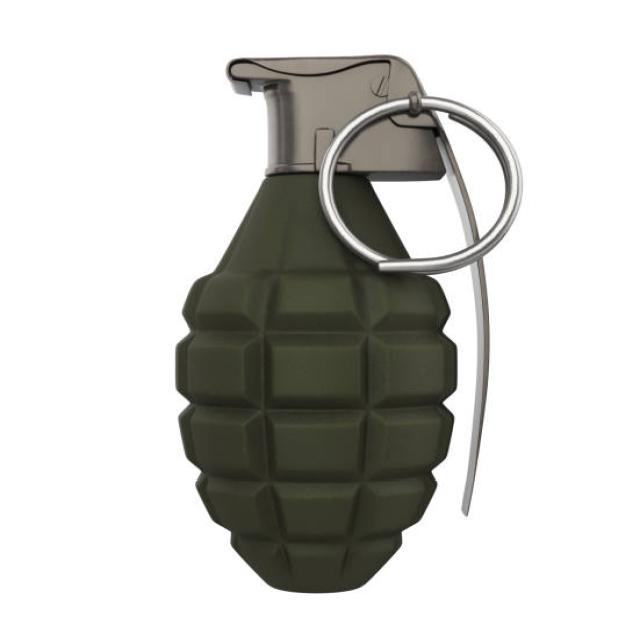grenade: (154, 50, 535, 614)
